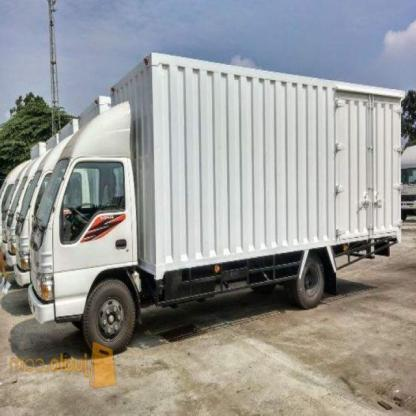truck: (28, 51, 411, 358)
